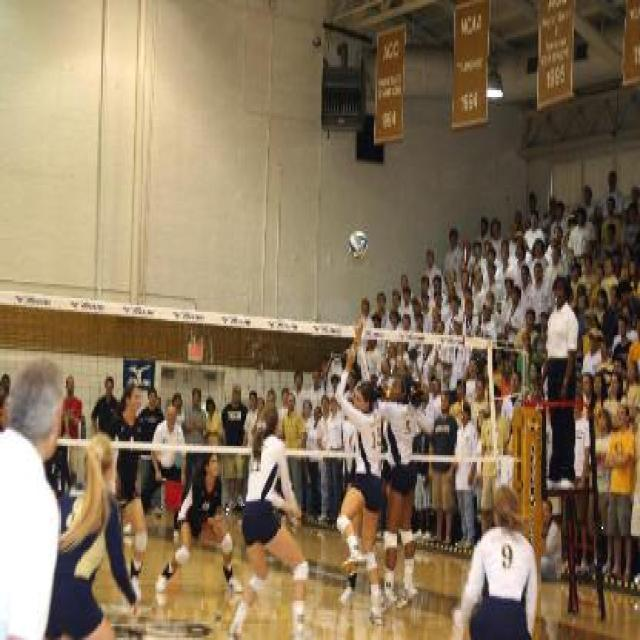volleyball: (343, 232, 369, 264)
